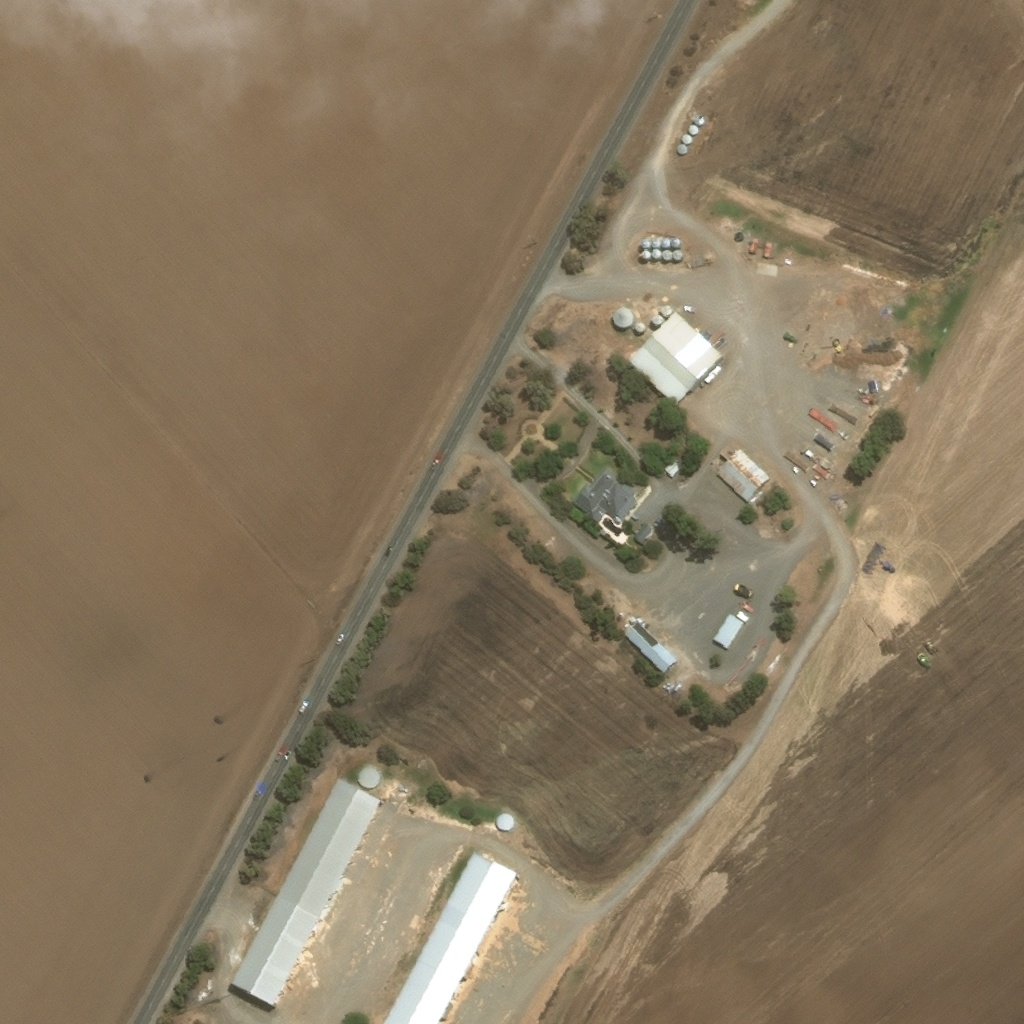0 no-damage: (232, 775, 382, 1003), (385, 848, 519, 1023), (630, 309, 724, 403), (574, 465, 638, 524), (716, 441, 771, 502), (625, 622, 677, 673), (714, 613, 745, 648), (358, 766, 379, 788), (634, 522, 653, 542), (615, 306, 634, 326), (664, 459, 683, 477), (497, 813, 514, 831), (748, 237, 760, 253), (761, 242, 771, 256), (636, 321, 646, 331), (642, 246, 652, 256), (652, 246, 662, 256), (664, 246, 674, 256), (653, 235, 663, 245), (674, 235, 684, 245), (678, 143, 688, 153), (654, 313, 665, 322), (663, 304, 674, 313), (643, 236, 652, 246), (664, 235, 674, 244), (675, 247, 685, 256)
4 un-classified: (393, 919, 405, 931), (378, 951, 389, 961)
